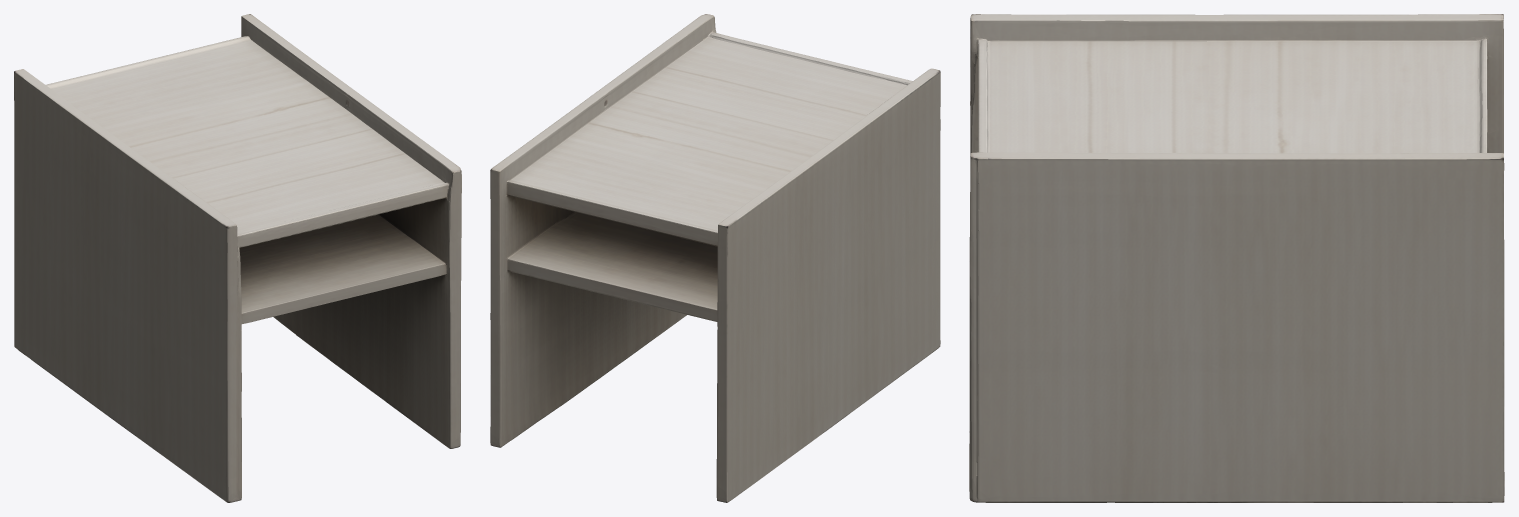
File: 21518_pedestal_york_baf.glb
3 renders of one model, left to right at view 1: azimuth 30°, elevation 25°; view 2: azimuth 150°, elevation 25°; view 3: azimuth 270°, elevation 25°, orthographic. The views are drawn at different scales.
Parts seen in each view (by area): view 1: world; view 2: world; view 3: world.
Part boxes in pixels (x1,y1,x2,y2): world: [14, 14, 461, 502]; world: [490, 14, 940, 502]; world: [969, 14, 1504, 502].
Bounding box in the file's own units: 0.6355 × 0.7086 × 0.9941.
Materials: 1 (1 with a texture image).
